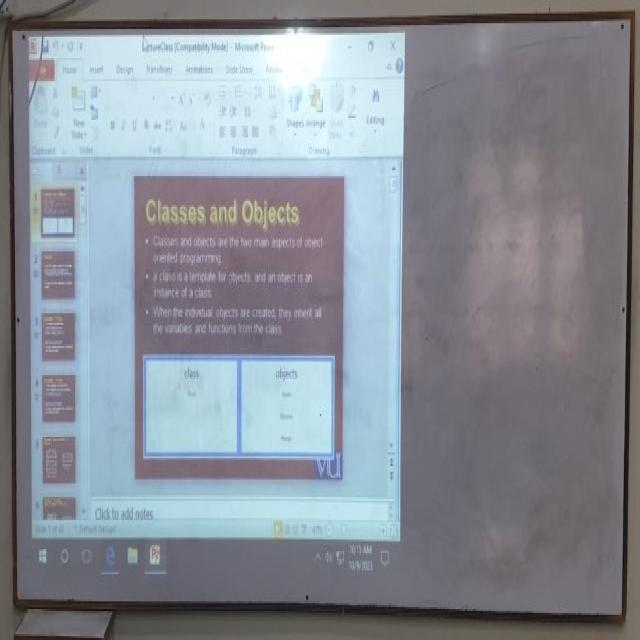Slide: (30, 32, 407, 573)
White-board: (12, 18, 637, 616)
